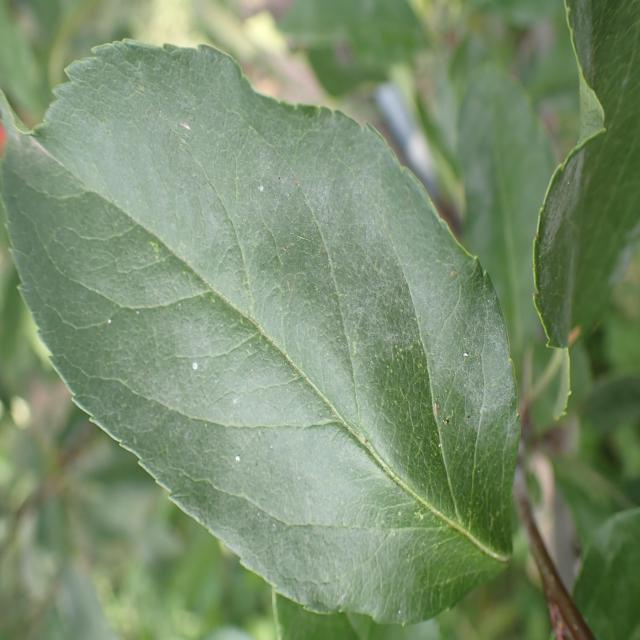Powdery_mildew: (37, 74, 509, 614)
